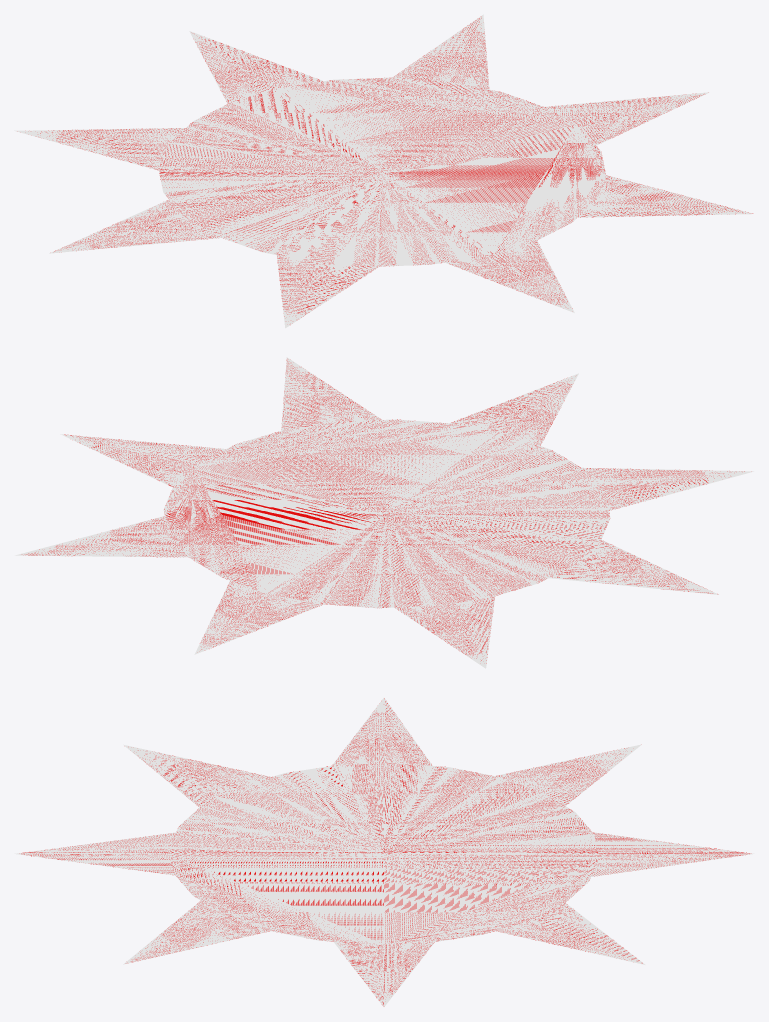
Rendered from SpikeBall.dae.
3 renders of one model, top to bottom at view 1: azimuth 30°, elevation 25°; view 2: azimuth 150°, elevation 25°; view 3: azimuth 270°, elevation 25°, orthographic. The views are drawn at different scales.
Visible parts, largest first — view 1: SketchUp; view 2: SketchUp; view 3: SketchUp.
Boxes of the visible parts, x1,y1,x2,y2 form: SketchUp: (14,14,753,328); SketchUp: (15,357,753,668); SketchUp: (14,698,754,1006).
Bounding box in the file's own units: 55 × 55.53 × 0.
